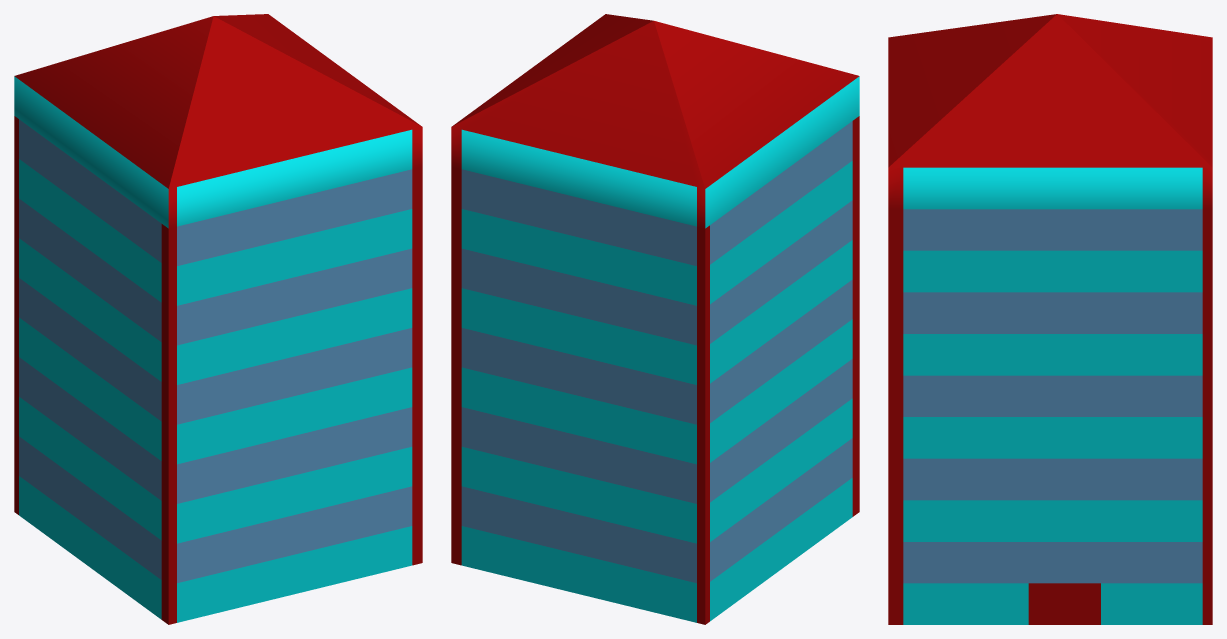
The model's file is building 1 red.fbx.
The picture shows the model from 3 angles, left to right: view 1: azimuth 30°, elevation 25°; view 2: azimuth 150°, elevation 25°; view 3: azimuth 270°, elevation 25°; orthographic projection. The views are drawn at different scales.
Parts seen in each view (by area): view 1: pCube2; view 2: pCube2; view 3: pCube2.
Boxes of the visible parts, x1,y1,x2,y2 form: pCube2: (14,14,422,624); pCube2: (451,14,859,624); pCube2: (888,14,1212,624).
Bounding box in the file's own units: 11.82 × 23.09 × 12.44.
